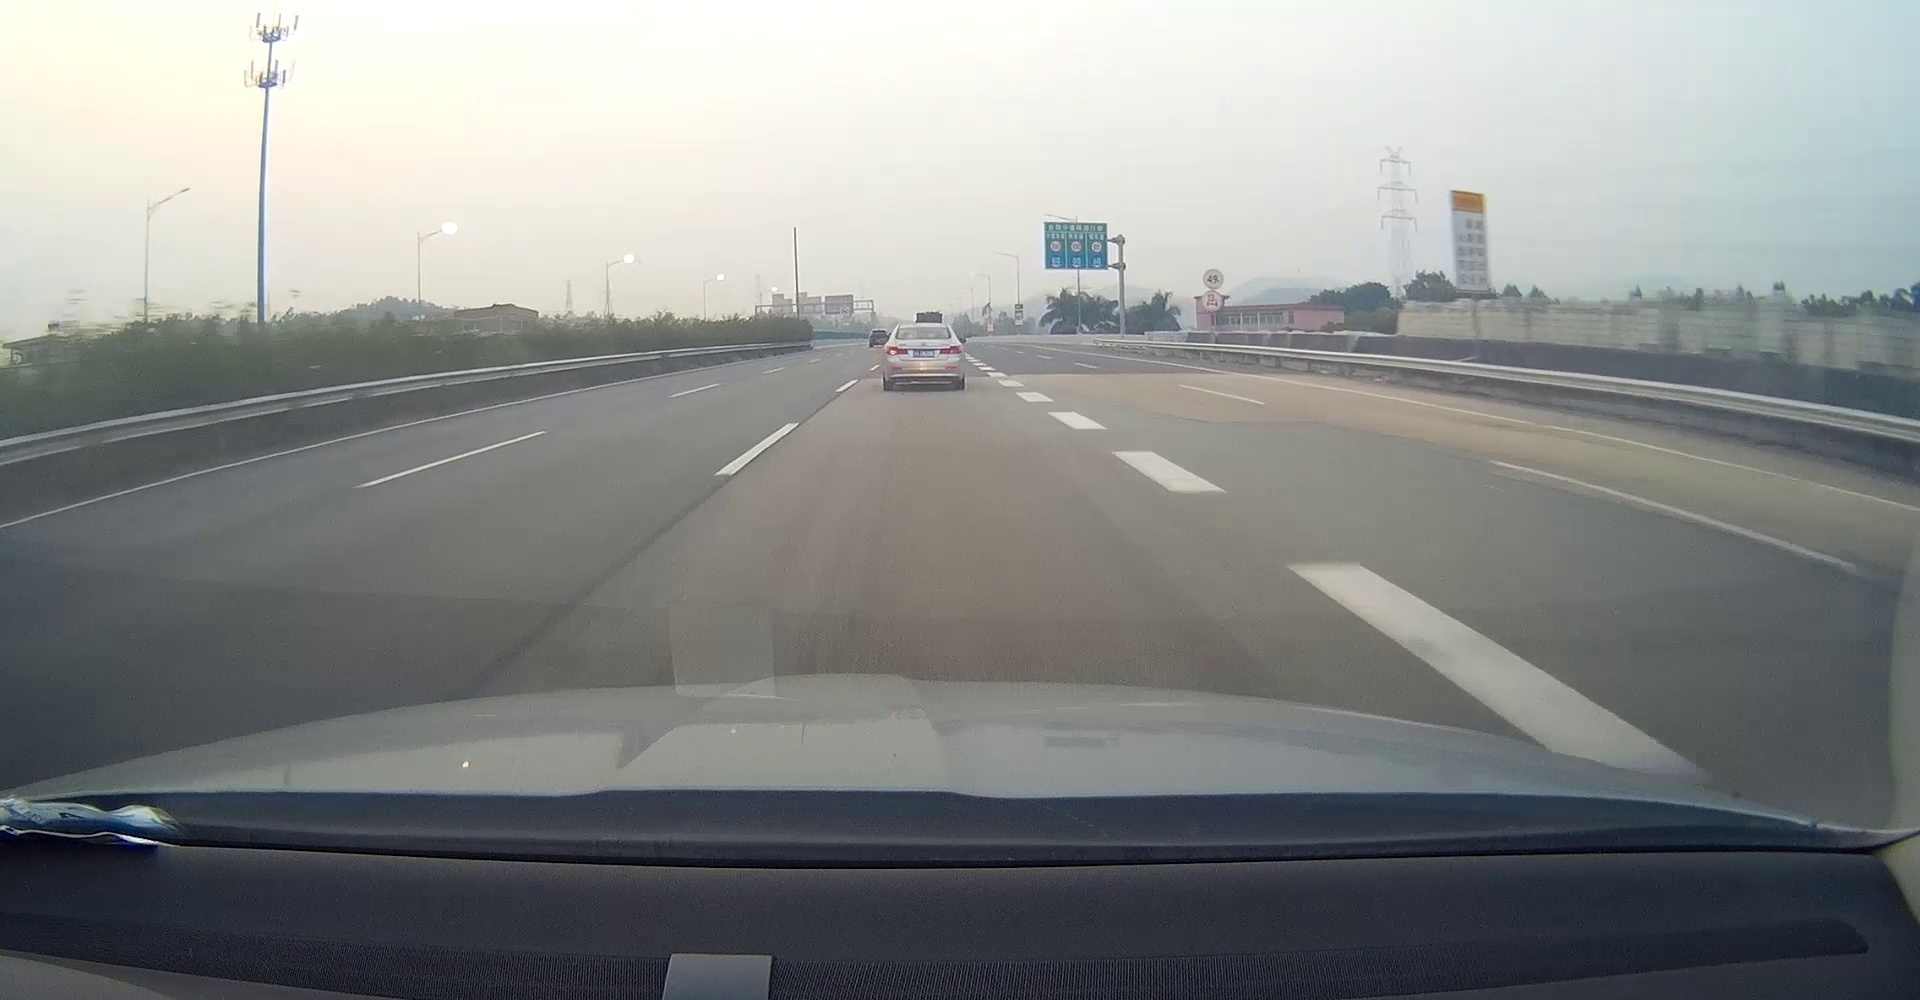L_light: (885, 346, 908, 355)
R_light: (938, 345, 961, 355)
T_light: (919, 325, 930, 329)
day-left: (884, 324, 963, 391)
